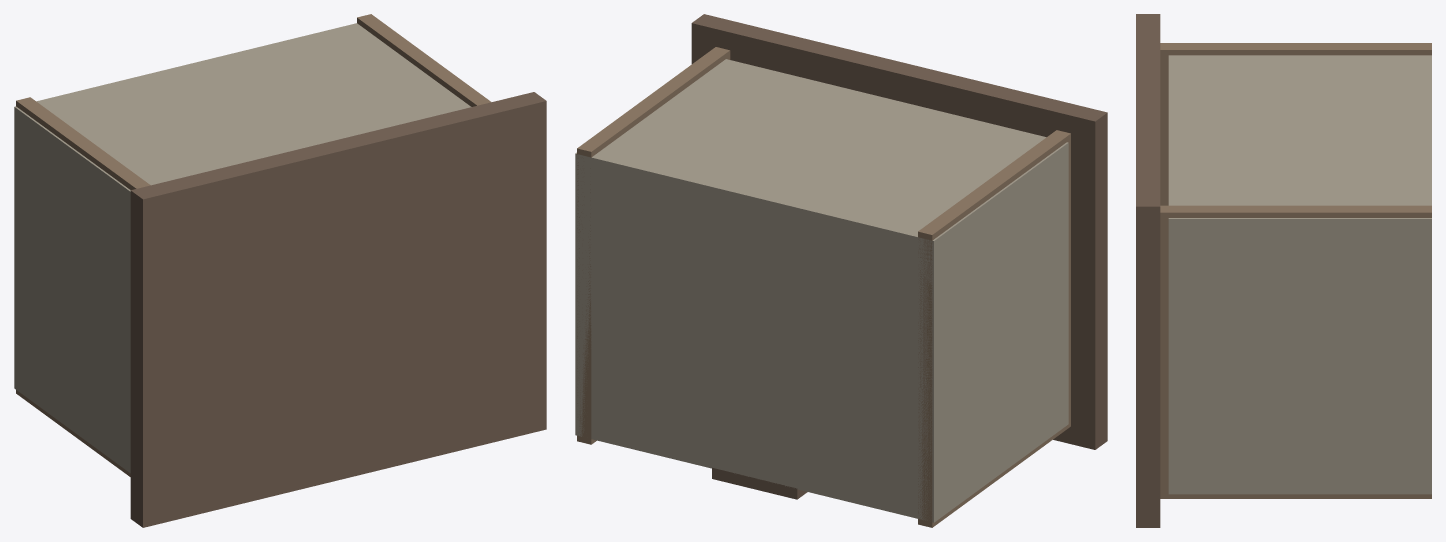
Rendered from SM_TimberHut.glb.
3 renders of one model, left to right at view 1: azimuth 30°, elevation 25°; view 2: azimuth 150°, elevation 25°; view 3: azimuth 270°, elevation 25°, orthographic. The views are drawn at different scales.
Visible parts, largest first — view 1: SM_TimberHut_part01, SM_TimberHut_part00, SM_TimberHut_part03, SM_TimberHut_part04; view 2: SM_TimberHut_part00, SM_TimberHut_part01, SM_TimberHut_part03, SM_TimberHut_part04, SM_TimberHut_part02; view 3: SM_TimberHut_part00, SM_TimberHut_part01, SM_TimberHut_part04, SM_TimberHut_part03.
Part boxes in pixels (x1,y1,x2,y2): SM_TimberHut_part01: [130, 92, 546, 527]; SM_TimberHut_part00: [14, 23, 471, 473]; SM_TimberHut_part03: [16, 97, 150, 476]; SM_TimberHut_part04: [357, 14, 491, 106]; SM_TimberHut_part00: [575, 59, 1068, 522]; SM_TimberHut_part01: [691, 14, 1107, 449]; SM_TimberHut_part03: [918, 130, 1070, 527]; SM_TimberHut_part04: [577, 47, 730, 444]; SM_TimberHut_part02: [712, 467, 807, 499]; SM_TimberHut_part00: [1168, 55, 1431, 494]; SM_TimberHut_part01: [1136, 14, 1160, 527]; SM_TimberHut_part04: [1160, 205, 1431, 498]; SM_TimberHut_part03: [1160, 43, 1431, 205].
Size of the model in its own units: 4.5 by 3.5 by 2.92.
